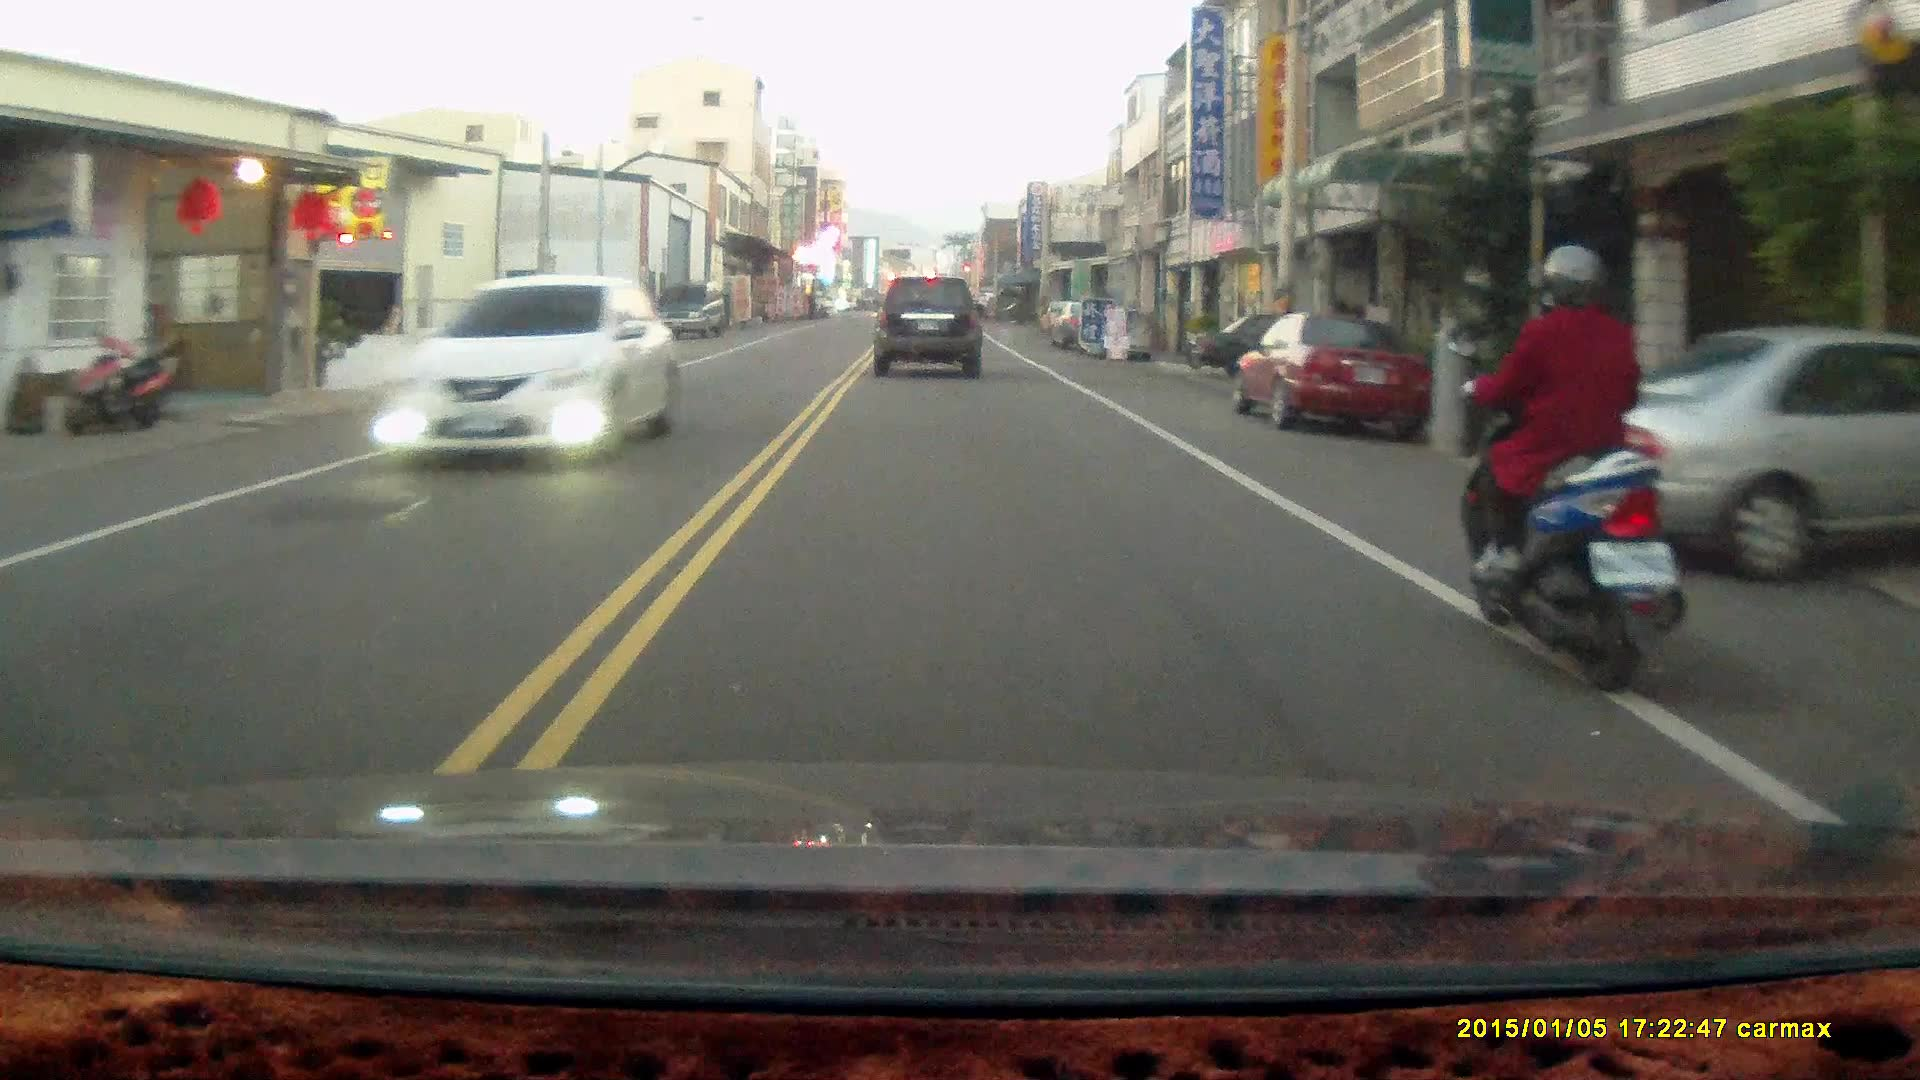rider: (1451, 242, 1694, 705)
vehicle: (1538, 332, 1920, 591), (376, 273, 684, 466), (1231, 309, 1435, 441), (876, 274, 986, 382), (656, 283, 727, 341)
